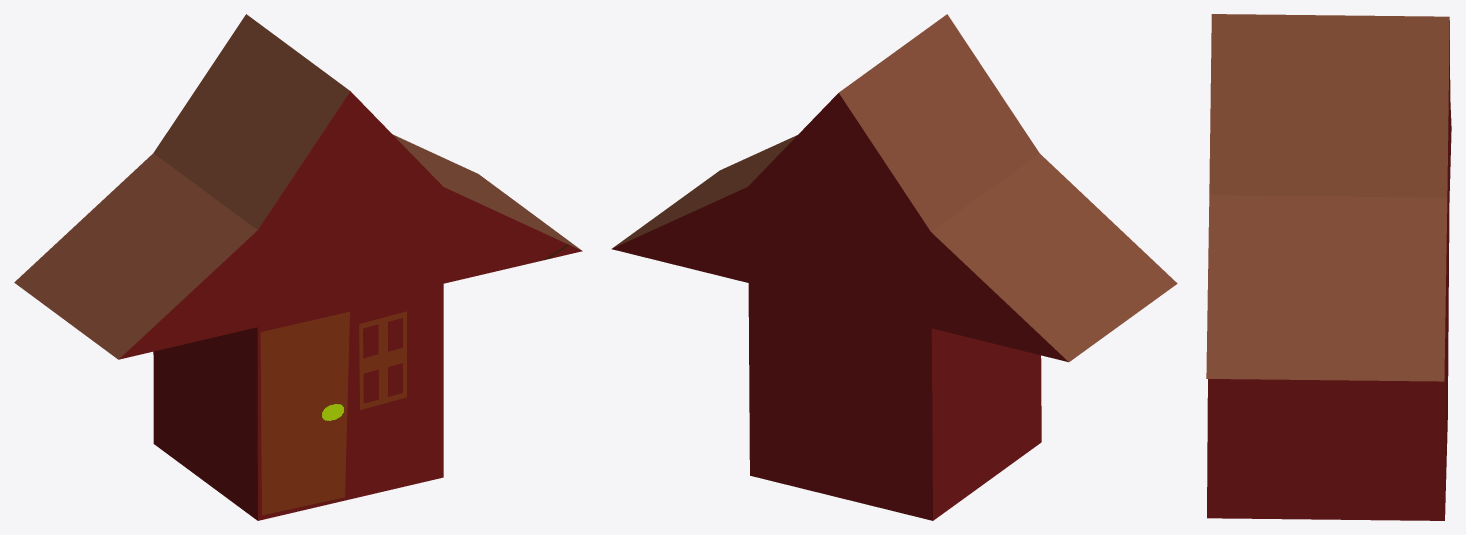
File: house.fbx
The picture shows the model from 3 angles, left to right: view 1: azimuth 30°, elevation 25°; view 2: azimuth 150°, elevation 25°; view 3: azimuth 270°, elevation 25°; orthographic projection. The views are drawn at different scales.
Parts seen in each view (by area): view 1: Cube; view 2: Cube; view 3: Cube.
Boxes of the visible parts, left/top/right/bottom form: Cube: left=14, top=14, right=582, bottom=520; Cube: left=611, top=14, right=1177, bottom=520; Cube: left=1206, top=14, right=1451, bottom=520.
Size of the model in its own units: 502 by 423 by 206.
